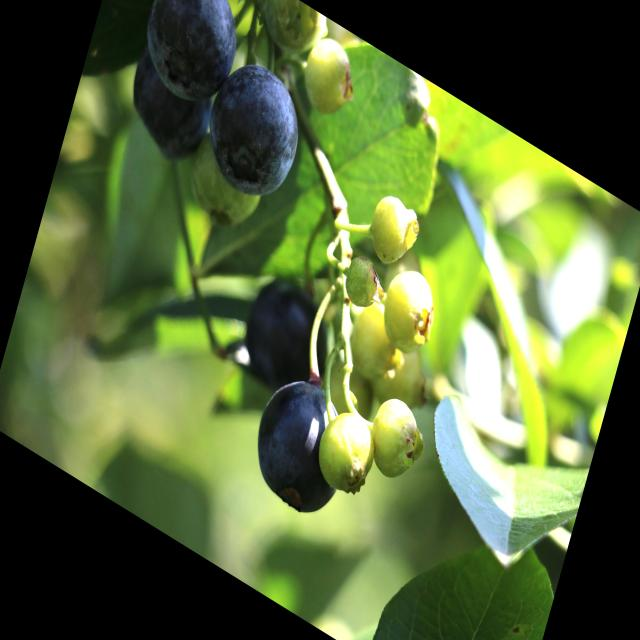blueberry: (197, 45, 314, 215), (246, 360, 361, 531), (233, 260, 339, 412), (134, 0, 254, 120), (124, 50, 222, 170)
blueberry-unripe: (312, 396, 382, 504), (361, 387, 429, 492), (377, 259, 441, 363), (296, 26, 362, 124), (360, 182, 422, 277), (340, 294, 401, 389), (257, 0, 329, 70), (341, 246, 385, 318)
